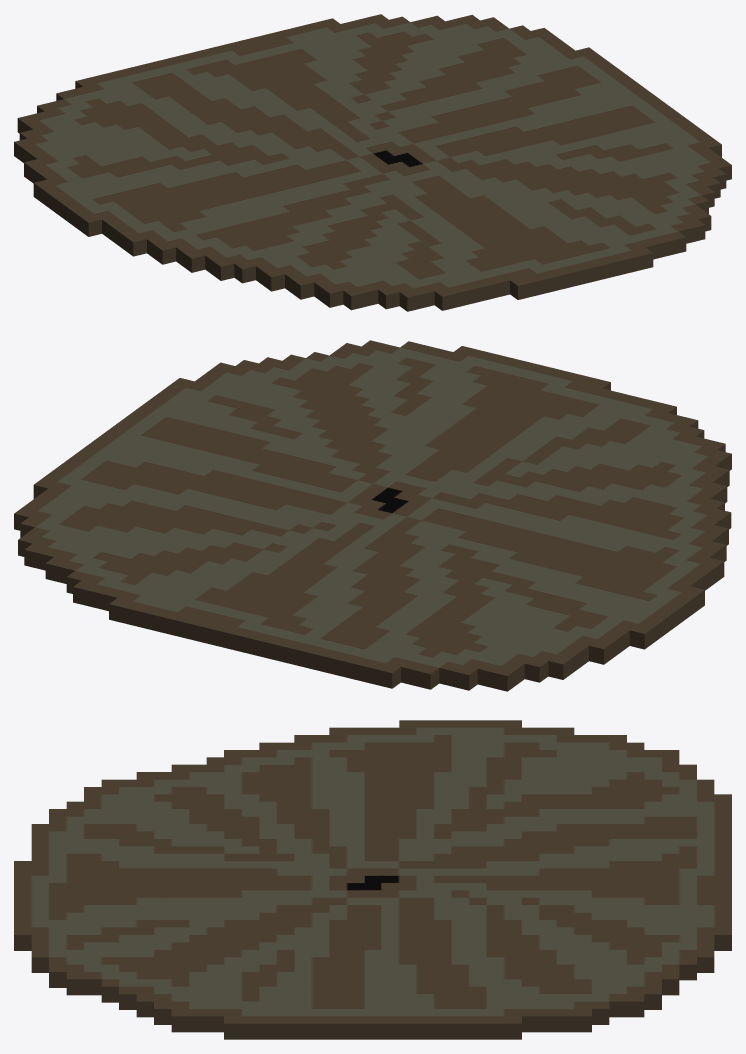
The model's file is ground_hole_1.glb.
The picture shows the model from 3 angles, top to bottom: view 1: azimuth 30°, elevation 25°; view 2: azimuth 150°, elevation 25°; view 3: azimuth 270°, elevation 25°; orthographic projection. The views are drawn at different scales.
Parts seen in each view (by area): view 1: ground_hole_1; view 2: ground_hole_1; view 3: ground_hole_1.
Part boxes in pixels (bbox=[...]): ground_hole_1: bbox=[14, 14, 731, 311]; ground_hole_1: bbox=[14, 340, 731, 691]; ground_hole_1: bbox=[14, 720, 731, 1039].
Bounding box in the file's own units: 4.1 × 0.1 × 4.1.
Materials: 1 (1 with a texture image).
